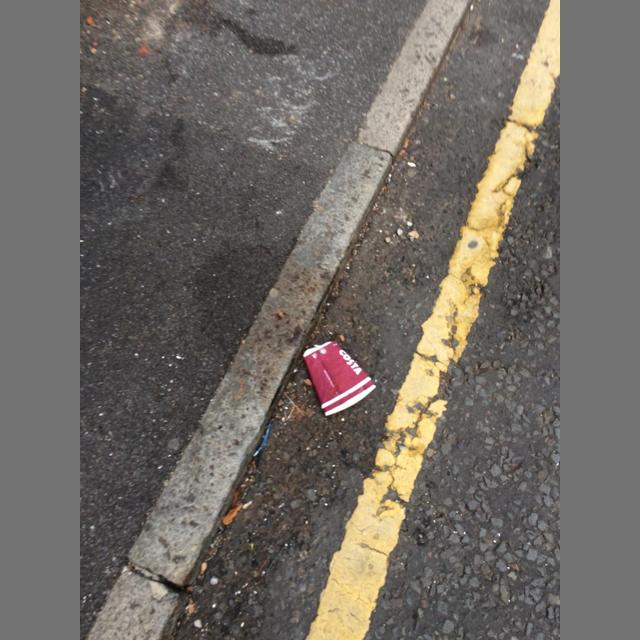litter: (303, 341, 376, 415)
